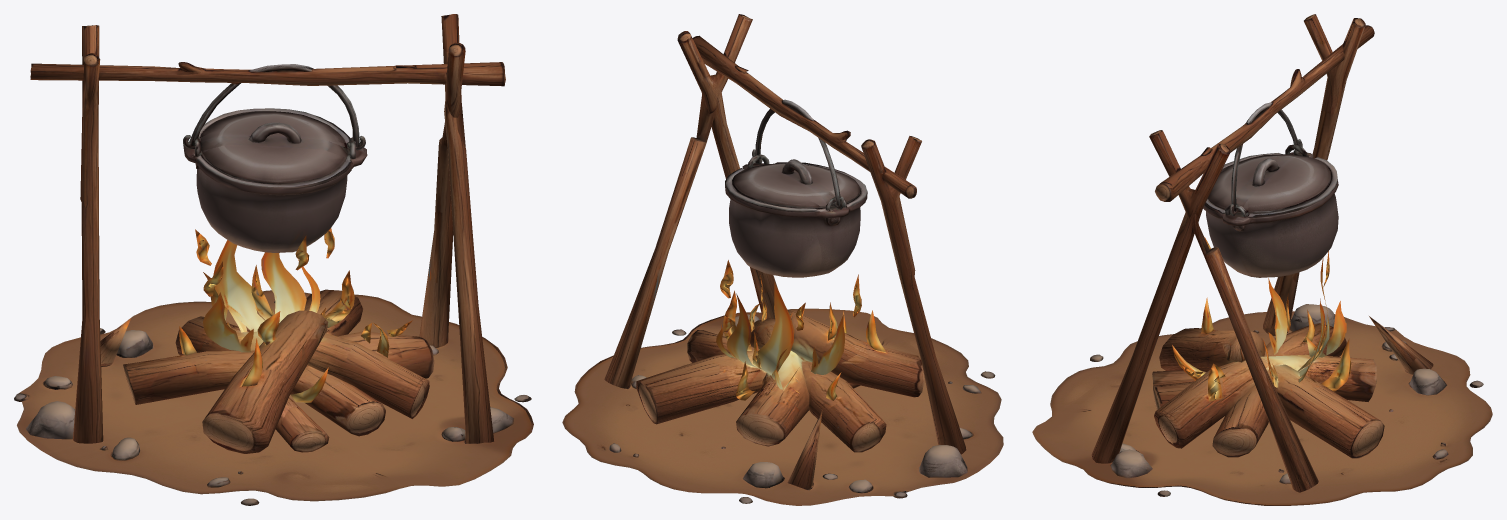
The model's file is campfire.fbx.
The picture shows the model from 3 angles, left to right: view 1: azimuth 30°, elevation 25°; view 2: azimuth 150°, elevation 25°; view 3: azimuth 270°, elevation 25°; orthographic projection. The views are drawn at different scales.
Visible parts, largest first — view 1: tripo_node_0aa02ed8-7992-4380-87a9-07daa1dc29f3; view 2: tripo_node_0aa02ed8-7992-4380-87a9-07daa1dc29f3; view 3: tripo_node_0aa02ed8-7992-4380-87a9-07daa1dc29f3.
Boxes of the visible parts, x1,y1,x2,y2 form: tripo_node_0aa02ed8-7992-4380-87a9-07daa1dc29f3: (14, 14, 533, 505); tripo_node_0aa02ed8-7992-4380-87a9-07daa1dc29f3: (562, 14, 1003, 505); tripo_node_0aa02ed8-7992-4380-87a9-07daa1dc29f3: (1032, 14, 1492, 505).
Size of the model in its own units: 0.998 by 0.8105 by 0.998.
